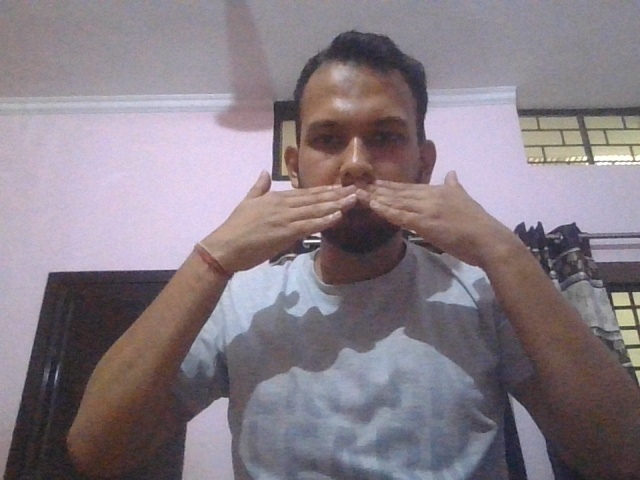thanks: (197, 168, 530, 264)
